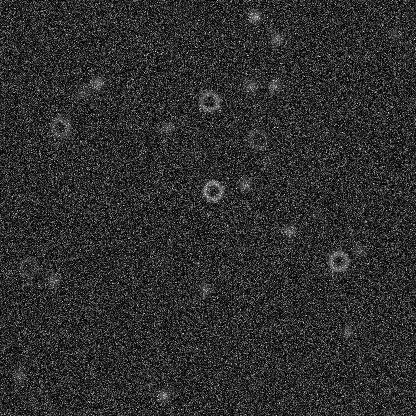Ring: (48, 115, 72, 139), (245, 126, 269, 150), (326, 249, 350, 273), (197, 89, 221, 113), (200, 178, 224, 202), (16, 255, 40, 279), (27, 385, 51, 409)
Spot: (187, 145, 203, 161), (11, 366, 27, 382), (155, 387, 171, 403), (268, 31, 284, 47), (75, 84, 91, 100), (197, 280, 213, 296), (236, 177, 252, 193), (338, 323, 354, 339), (308, 205, 324, 221), (260, 152, 276, 168), (266, 77, 282, 93), (235, 241, 251, 257), (45, 272, 61, 288), (352, 242, 368, 258), (243, 78, 259, 94), (246, 8, 262, 24), (280, 223, 296, 239), (387, 25, 403, 41), (158, 119, 174, 135), (89, 75, 105, 91)
